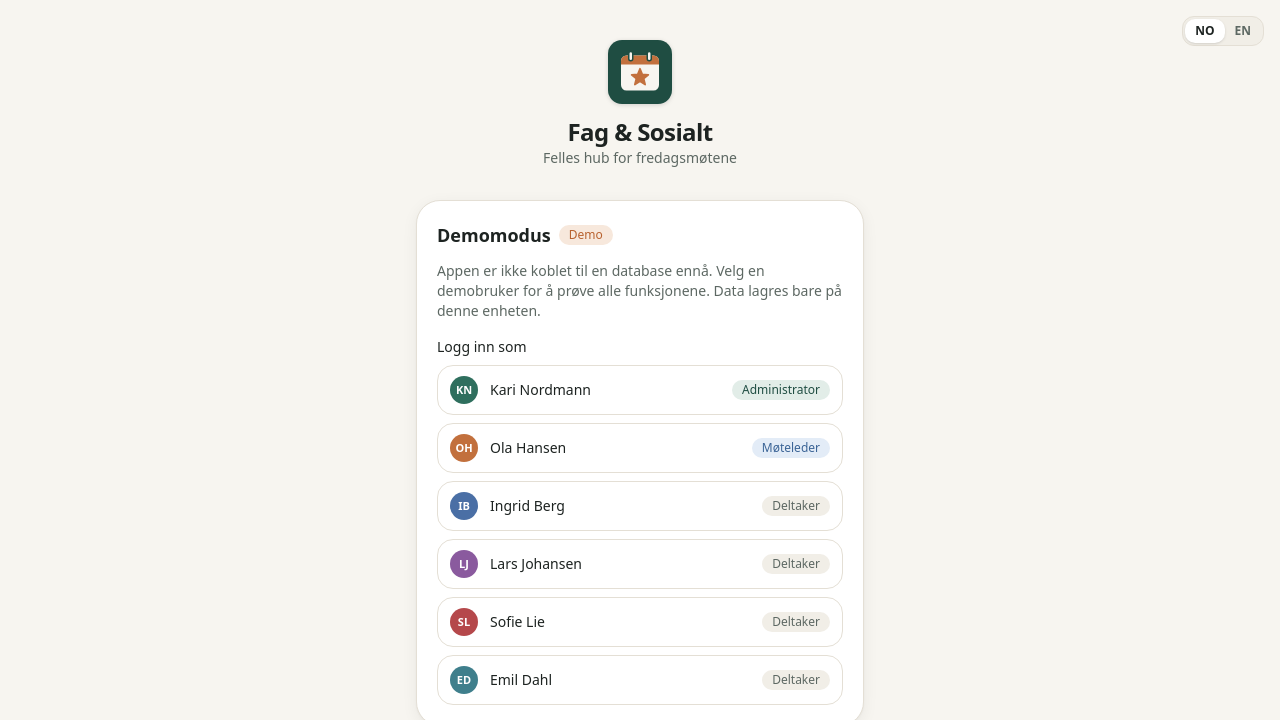
Test: Fag & Sosialt app (demo backend) › rates a meeting and updates the average immediately
What coordinates should you click on to do the following:
click the button "IB Ingrid Berg Deltaker"
I would click on:
 (527, 506)
Its box is [437,481,843,531].
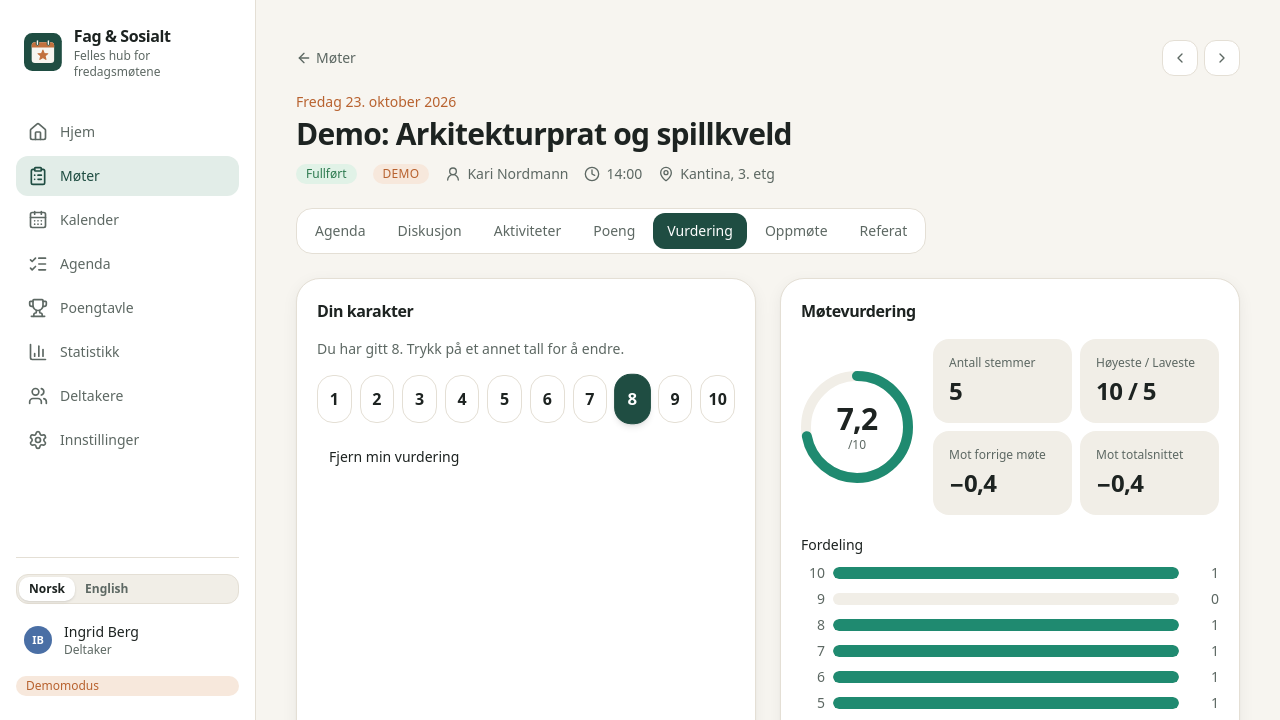
What coordinates should you click on to do the following:
click the radio button named "Karakter 1"
I would click on:
 (334, 399)
Its box is [317,375,352,423].
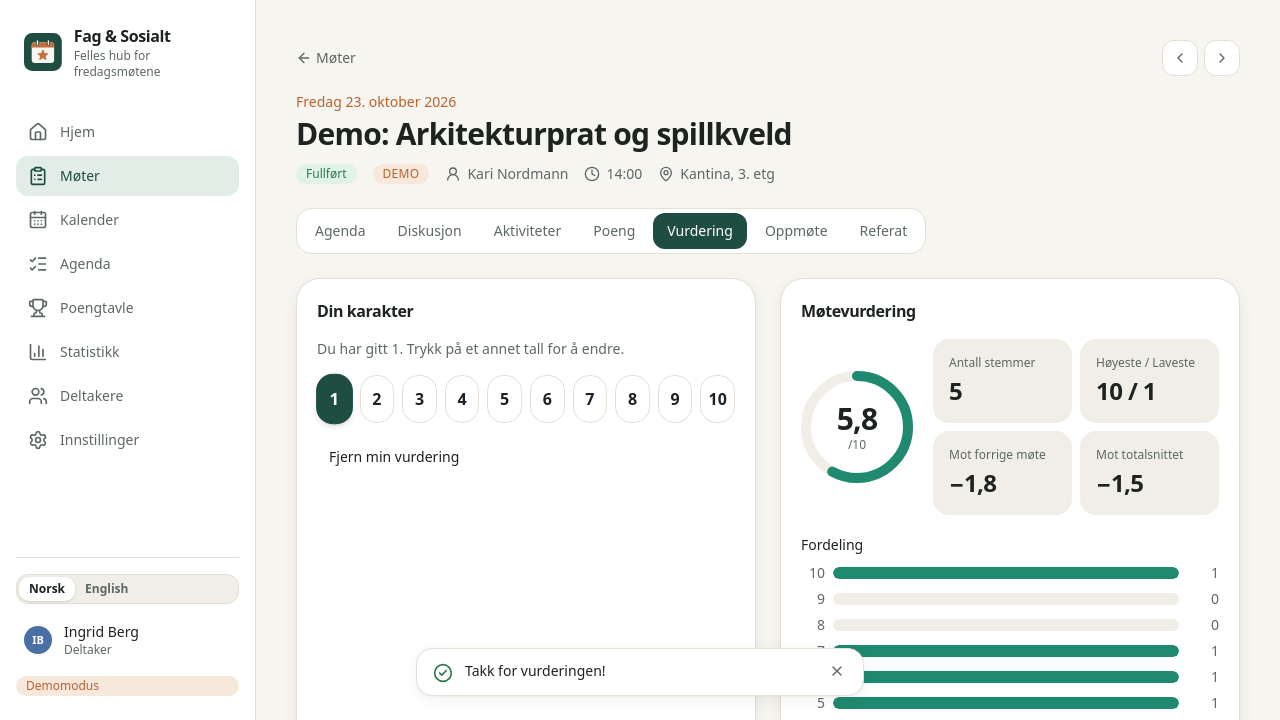
Check: the text "Takk for vurderingen!" is shown, box [465,661,606,680]
Check: the text "Du har gitt 1. Trykk på et annet tall for å endre." is shown, box [317,339,624,358]
